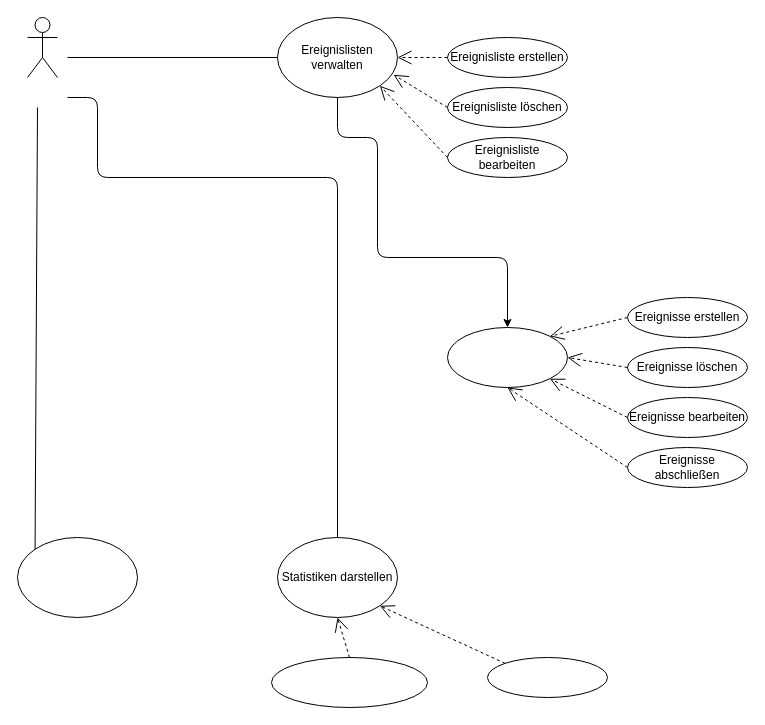
Some shapes in this 765 by 725 pixel diagram are drawn without their labels. The shapes that lost their labels are listed below. From the top down, each one's box as (x1, y1, x2, y2) in pixels, then its label:
(26, 16, 58, 78): Actor
(446, 326, 568, 388): Ereignisse verwalten
(16, 536, 138, 618): Kategorien darstellen
(270, 656, 428, 708): abgeschlossene Ereignisse darstellen
(486, 656, 608, 698): most used Kategorie darstellen
